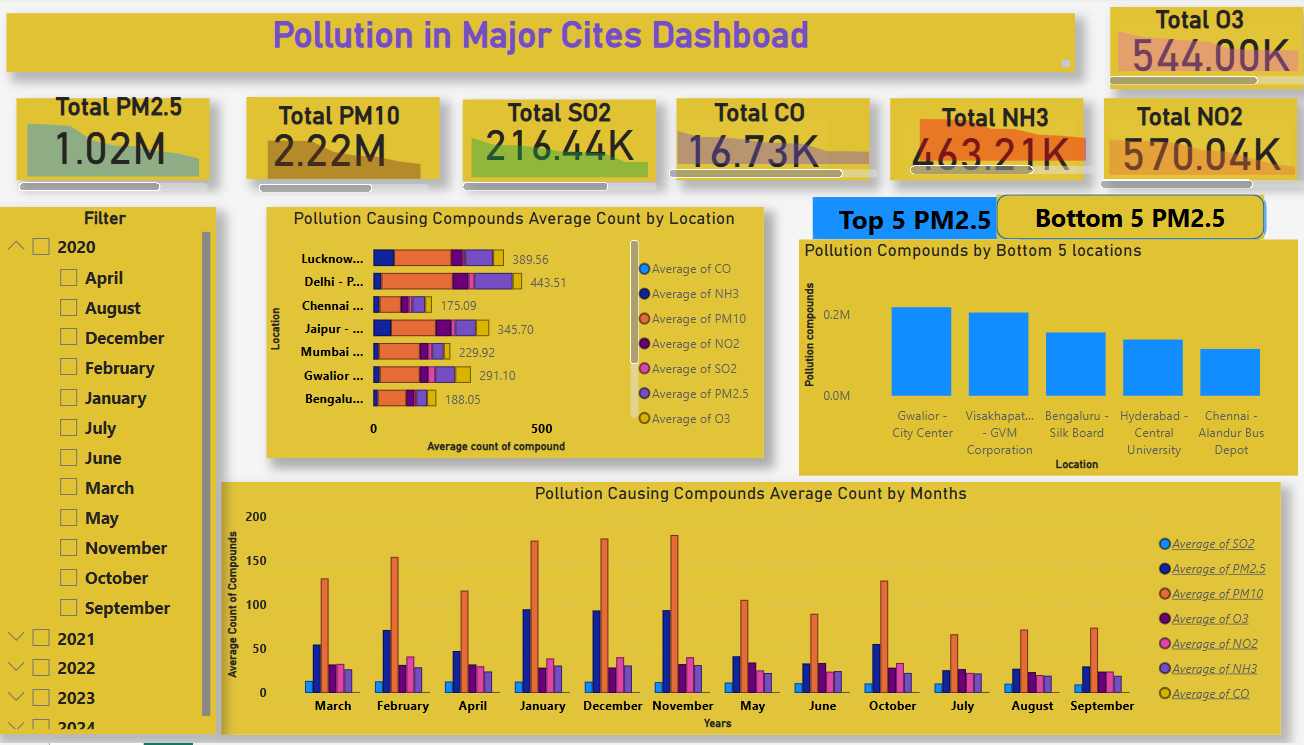

This screenshot's page, from the dashboard's own definition file:
{"tool":"powerbi","page":{"name":"Page 1","canvas":[1280,720],"ordinal":0},"visuals":[{"type":"shape","title":"Bottom 5 PM2.5 ","box":[1000.5,187,258.1,43.5],"z":0,"group":"g2"},{"type":"shape","title":"Bottom 5 PM2.5","box":[1004.2,187,246.3,44.6],"z":0,"group":"g1"},{"type":"barChart","title":"Pollution Causing Compounds Average Count by Location","fields":{"Category":["Append1.Location"],"Y":["Avg(Append1.CO)","Avg(Append1.NH3)","Avg(Append1.PM10)","Avg(Append1.NO2)","Avg(Append1.SO2)","Avg(Append1.PM2.5)","Avg(Append1.O3)"]},"box":[263,202.7,480.2,242.5],"z":0},{"type":"textbox","title":"Pollution in Major Cites Dashboad","box":[12.1,15.7,1031.5,56.7],"z":1000},{"type":"shape","title":"Top 5 PM2.5","box":[811.9,188.8,198.1,41],"z":1000,"group":"g1"},{"type":"clusteredColumnChart","title":"Pollution Compounds by Bottom 5 locations","fields":{"Y":["Sum(Append1.PM10)"],"Category":["Append1.Location"]},"box":[786.1,230.4,482,227.8],"z":1000,"group":"g3"},{"type":"clusteredColumnChart","title":"Pollution Causing Compounds Average Count by Months","fields":{"Y":["Avg(Append1.SO2)","Avg(Append1.PM2.5)","Avg(Append1.PM10)","Avg(Append1.O3)","Avg(Append1.NO2)","Avg(Append1.NH3)","Avg(Append1.CO)"],"Category":["Append1.Month Name"]},"box":[219.6,468.1,532,243.7],"z":2000},{"type":"slicer","title":"Filter","fields":{"Values":["Append1.Year","Append1.Month Name"]},"box":[0,203.1,214.1,509.1],"z":3000},{"type":"textbox","box":[22,97.4,186.6,79.6],"z":4000},{"type":"textbox","title":"Total PM2.5","box":[34.3,91.9,174.3,35.7],"z":5000},{"type":"areaChart","fields":{"Y":["Sum(Append1.PM2.5)"],"Category":["Append1.Month Name"]},"box":[19.2,107,192.1,85.1],"z":6000},{"type":"card","fields":{"Values":["Sum(Append1.SO2)"]},"box":[452.8,98.8,186.6,79.6],"z":7000},{"type":"textbox","box":[244.3,96.1,186.6,79.6],"z":8000},{"type":"textbox","title":"Total PM2.5","box":[871.4,96.1,179.8,28.8],"z":9000},{"type":"card","fields":{"Values":["Sum(Append1.PM2.5)"]},"box":[11,111.1,200.3,60.4],"z":10000},{"type":"card","fields":{"Values":["Sum(Append1.PM10)"]},"box":[263.5,111.1,122.1,64.5],"z":11000},{"type":"textbox","title":"Total SO2","box":[483,97.4,126.2,28.8],"z":12000},{"type":"areaChart","fields":{"Category":["Append1.Month Name"],"Y":["Sum(Append1.PM10)"]},"box":[251.1,118,174.3,75.5],"z":13000},{"type":"areaChart","fields":{"Category":["Append1.Month Name"],"Y":["Sum(Append1.SO2)"]},"box":[447.3,118,197.6,74.1],"z":14000},{"type":"textbox","title":"Total PM2.5","box":[658.7,102.9,174.3,35.7],"z":15000},{"type":"textbox","title":"Total PM10","box":[245.6,100.2,174.3,34.3],"z":16000},{"type":"textbox","box":[1077.2,9.6,186.6,79.6],"z":17000},{"type":"textbox","box":[658.7,97.4,186.6,79.6],"z":18000},{"type":"textbox","box":[864.5,97.4,186.6,79.6],"z":19000},{"type":"textbox","box":[1071.7,97.4,186.6,79.6],"z":20000},{"type":"textbox","title":"Total CO","box":[690.2,97.4,113.9,34.3],"z":21000},{"type":"card","fields":{"Values":["Sum(Append1.CO)"]},"box":[658.7,116.6,145.5,54.9],"z":22000},{"type":"card","fields":{"Values":["Sum(Append1.NH3)"]},"box":[879.6,119.4,164.7,54.9],"z":23000},{"type":"card","fields":{"Values":["Sum(Append1.NO2)"]},"box":[1077.2,119.4,174.3,54.9],"z":24000},{"type":"card","fields":{"Values":["Sum(Append1.O3)"]},"box":[1084.1,24.7,178.4,54.9],"z":25000},{"type":"areaChart","fields":{"Category":["Append1.Month Name"],"Y":["Sum(Append1.NH3)"]},"box":[862.6,115.8,189.4,74.8],"z":26000},{"type":"areaChart","fields":{"Category":["Append1.Month Name"],"Y":["Sum(Append1.SO2)"]},"box":[646.3,112.5,211.3,67.2],"z":27000},{"type":"areaChart","fields":{"Category":["Append1.Month Name"],"Y":["Sum(Append1.O3)"]},"box":[1071.7,15.1,201.7,74.1],"z":28000},{"type":"textbox","title":"Total NO2","box":[1097.8,101.5,113.9,34.3],"z":29000},{"type":"textbox","title":"Total NH3","box":[909.8,102.9,118,34.3],"z":30000},{"type":"textbox","title":"Total O3","box":[1115.6,6.9,113.9,34.3],"z":31000},{"type":"areaChart","fields":{"Category":["Append1.Month Name"],"Y":["Sum(Append1.NO2)"]},"box":[1063.5,115.3,207.2,74.1],"z":32000},{"type":"group","id":"g1","title":"Inactive Button","box":[811.9,187,439.1,44.6],"z":33000},{"type":"group","id":"g2","title":"Active Button","box":[826.4,187,431.9,43.4],"z":34000},{"type":"group","id":"g3","title":"Location","box":[783,230.4,485,232.8],"z":35000},{"type":"pivotTable","fields":{"Rows":["Append1.Location"],"Values":["Sum(Append1.PM2.5)","Sum(Append1.PM10)","Sum(Append1.NH3)","Sum(Append1.NO2)","Sum(Append1.SO2)","Sum(Append1.O3)"],"Columns":["Append1.Month Name"]},"box":[769.7,466.9,510.3,253.4],"z":36000}]}

Visuals, with their boxes in screenshot pixels (x1, y1, x2, y2), scaled from the page's 1280x720 canvas onto the 1304x745 screenshot:
"Bottom 5 PM2.5 " shape: [1019,193,1282,239]
"Bottom 5 PM2.5" shape: [1023,193,1274,240]
"Pollution Causing Compounds Average Count by Location" barChart: [268,210,757,461]
"Pollution in Major Cites Dashboad" textbox: [12,16,1063,75]
"Top 5 PM2.5" shape: [827,195,1029,238]
"Pollution Compounds by Bottom 5 locations" clusteredColumnChart: [801,238,1292,474]
"Pollution Causing Compounds Average Count by Months" clusteredColumnChart: [224,484,766,737]
"Filter" slicer: [0,210,218,737]
textbox: [22,101,213,183]
"Total PM2.5" textbox: [35,95,213,132]
areaChart - Sum(Append1.PM2.5) x Append1.Month Name: [20,111,215,199]
card - Sum(Append1.SO2): [461,102,651,185]
textbox: [249,99,439,182]
"Total PM2.5" textbox: [888,99,1071,129]
card - Sum(Append1.PM2.5): [11,115,215,177]
card - Sum(Append1.PM10): [268,115,393,182]
"Total SO2" textbox: [492,101,621,131]
areaChart - Append1.Month Name x Sum(Append1.PM10): [256,122,433,200]
areaChart - Append1.Month Name x Sum(Append1.SO2): [456,122,657,199]
"Total PM2.5" textbox: [671,106,849,143]
"Total PM10" textbox: [250,104,428,139]
textbox: [1097,10,1287,92]
textbox: [671,101,861,183]
textbox: [881,101,1071,183]
textbox: [1092,101,1282,183]
"Total CO" textbox: [703,101,819,136]
card - Sum(Append1.CO): [671,121,819,177]
card - Sum(Append1.NH3): [896,124,1064,180]
card - Sum(Append1.NO2): [1097,124,1275,180]
card - Sum(Append1.O3): [1104,26,1286,82]
areaChart - Append1.Month Name x Sum(Append1.NH3): [879,120,1072,197]
areaChart - Append1.Month Name x Sum(Append1.SO2): [658,116,874,186]
areaChart - Append1.Month Name x Sum(Append1.O3): [1092,16,1297,92]
"Total NO2" textbox: [1118,105,1234,141]
"Total NH3" textbox: [927,106,1047,142]
"Total O3" textbox: [1137,7,1253,43]
areaChart - Append1.Month Name x Sum(Append1.NO2): [1083,119,1295,196]
"Inactive Button" group: [827,193,1274,240]
"Active Button" group: [842,193,1282,238]
"Location" group: [798,238,1292,479]
pivotTable - Append1.Location x Sum(Append1.PM2.5): [784,483,1303,744]
